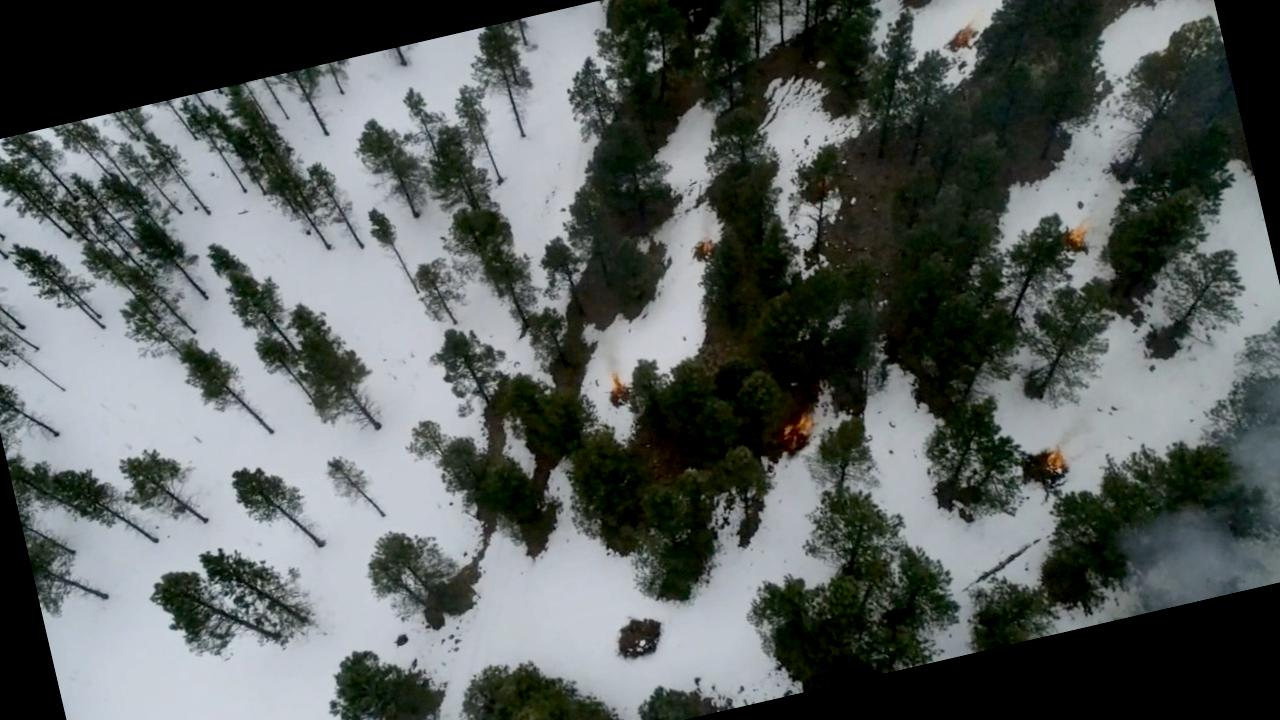fire: (768, 406, 819, 467), (1032, 443, 1070, 483), (1058, 223, 1092, 253)
smoke: (1058, 373, 1280, 621)
